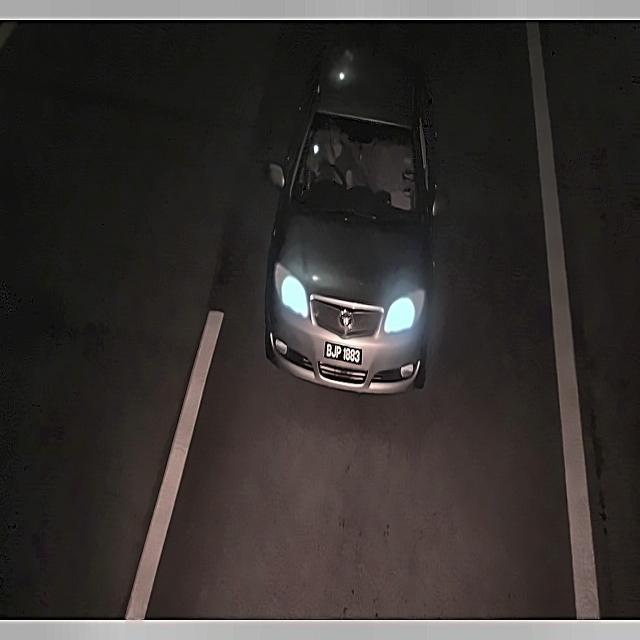car: (322, 340, 364, 372)
